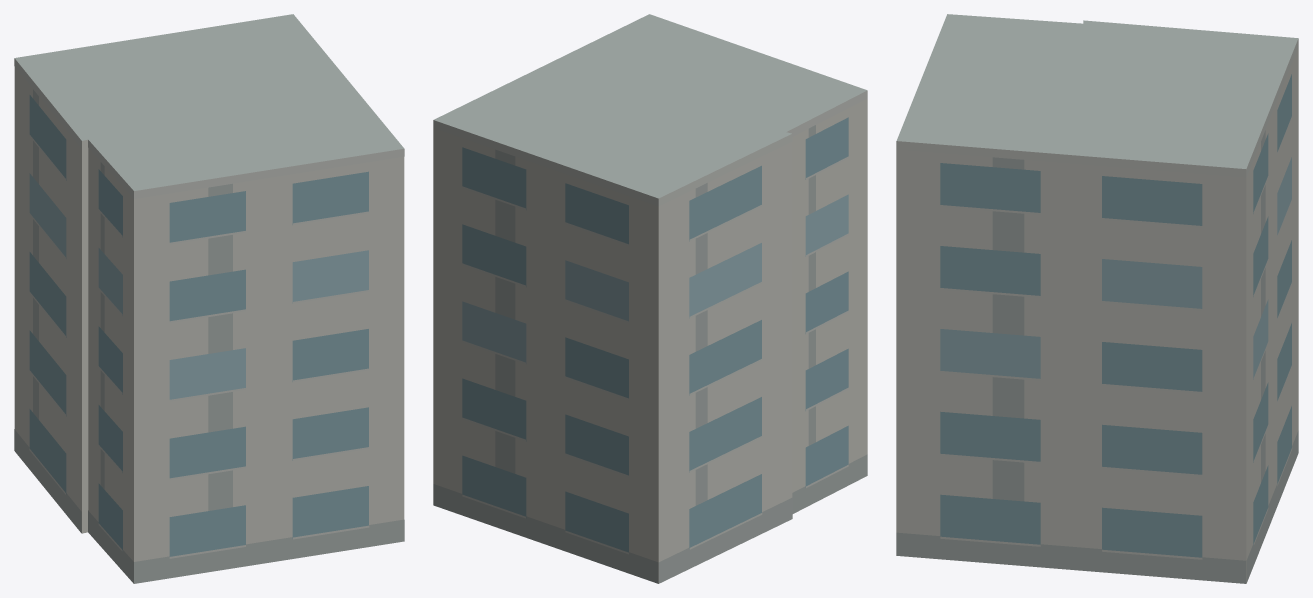
Rendered from survey-upis-32899560.glb.
3 renders of one model, left to right at view 1: azimuth 30°, elevation 25°; view 2: azimuth 150°, elevation 25°; view 3: azimuth 270°, elevation 25°, orthographic. The views are drawn at different scales.
Visible parts, largest first — view 1: survey-upis-32899560.tmp; view 2: survey-upis-32899560.tmp; view 3: survey-upis-32899560.tmp.
Boxes of the visible parts, x1,y1,x2,y2 form: survey-upis-32899560.tmp: (14,14,404,583); survey-upis-32899560.tmp: (433,14,867,583); survey-upis-32899560.tmp: (896,14,1298,583).
Bounding box in the file's own units: 9.48 × 11.8 × 10.38.
